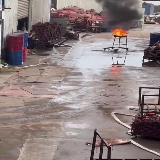fire: (112, 29, 127, 36)
